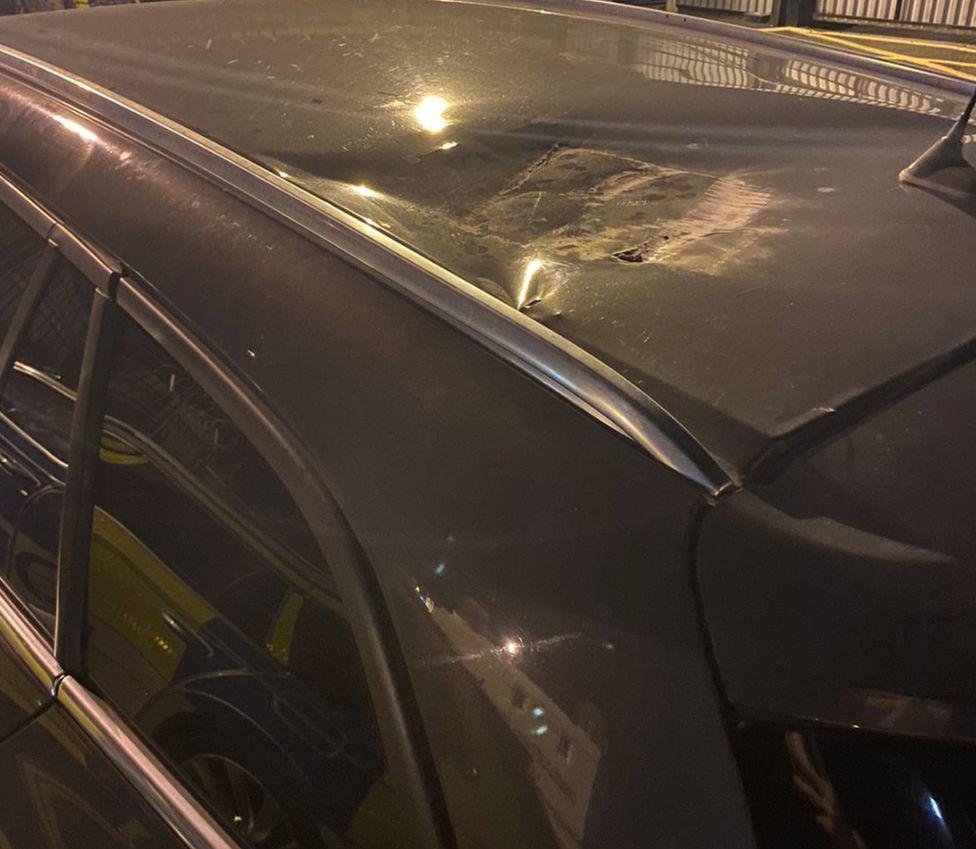roof-dent: (17, 0, 975, 406)
